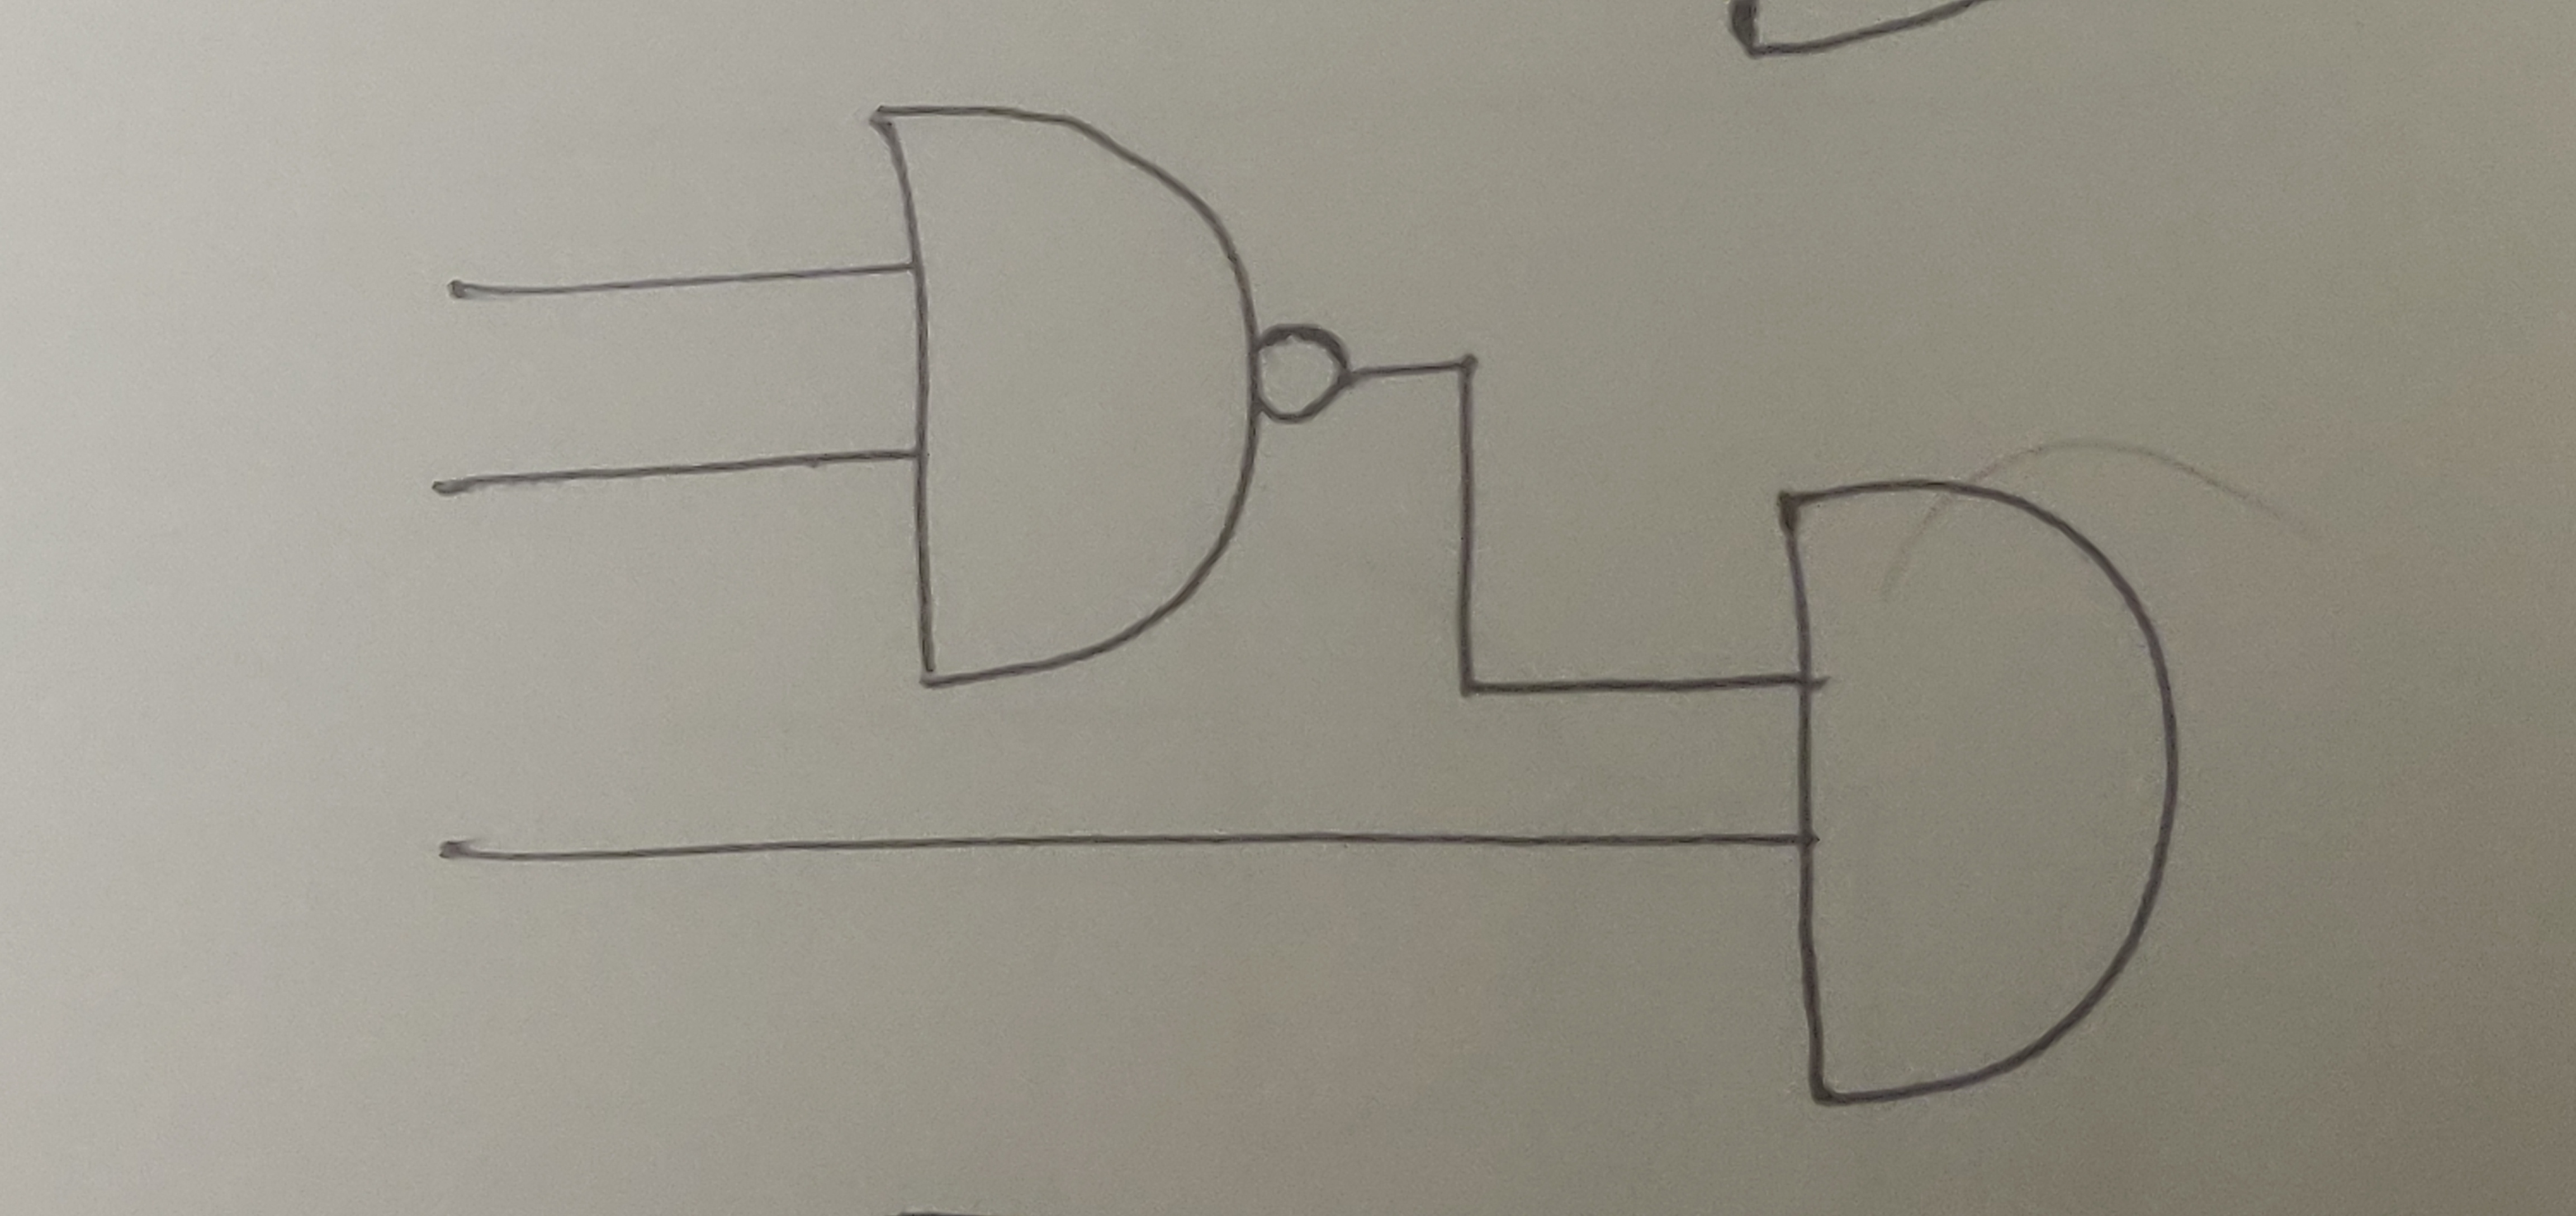and: (1768, 477, 2182, 1114), (861, 99, 1265, 693)
not: (1255, 316, 1354, 437)
